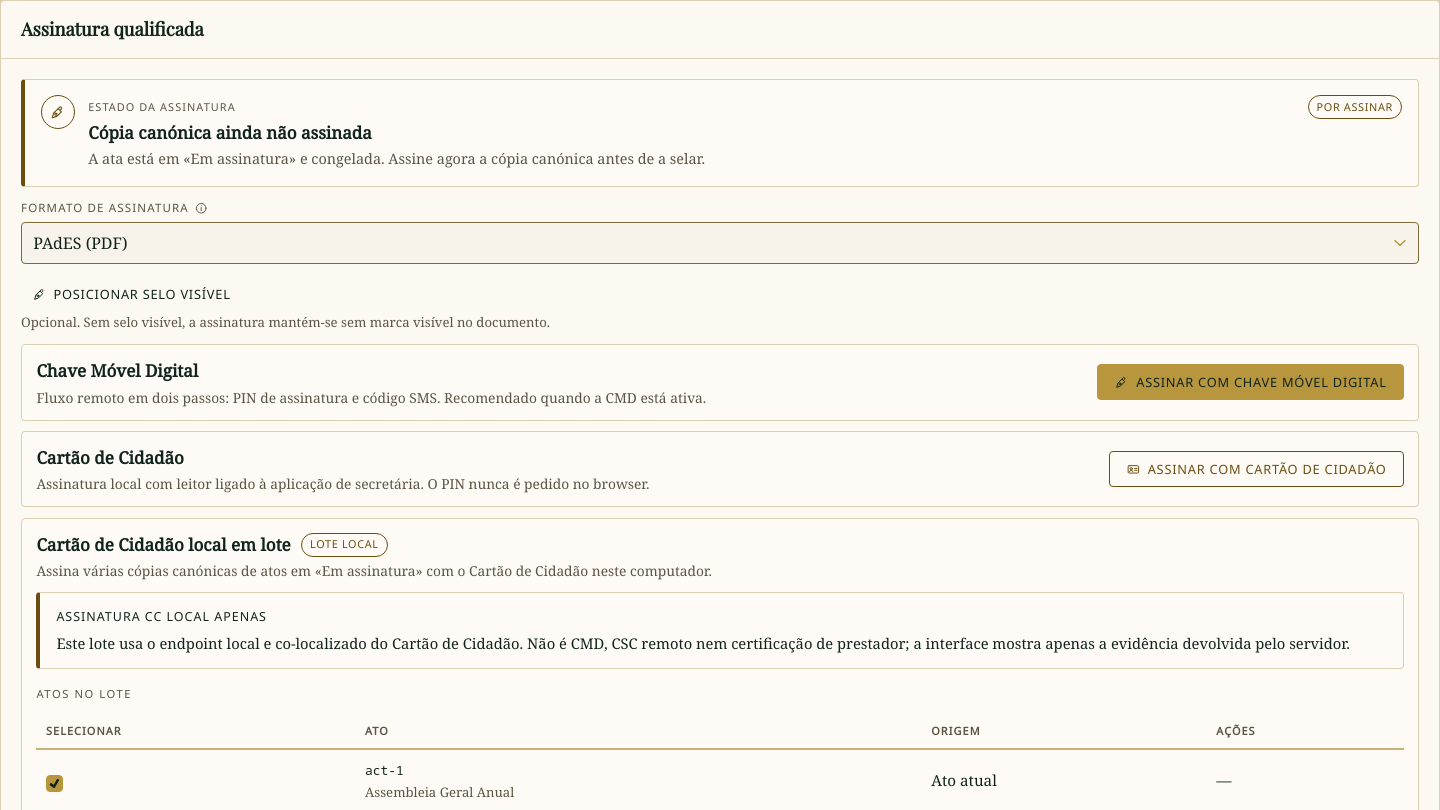
Test: the saved CMD mobile number › never overwrites a number the operator has started typing
Click the button "Assinar com Chave Móvel Digital" at (1250, 382), box [1097,364,1404,400]
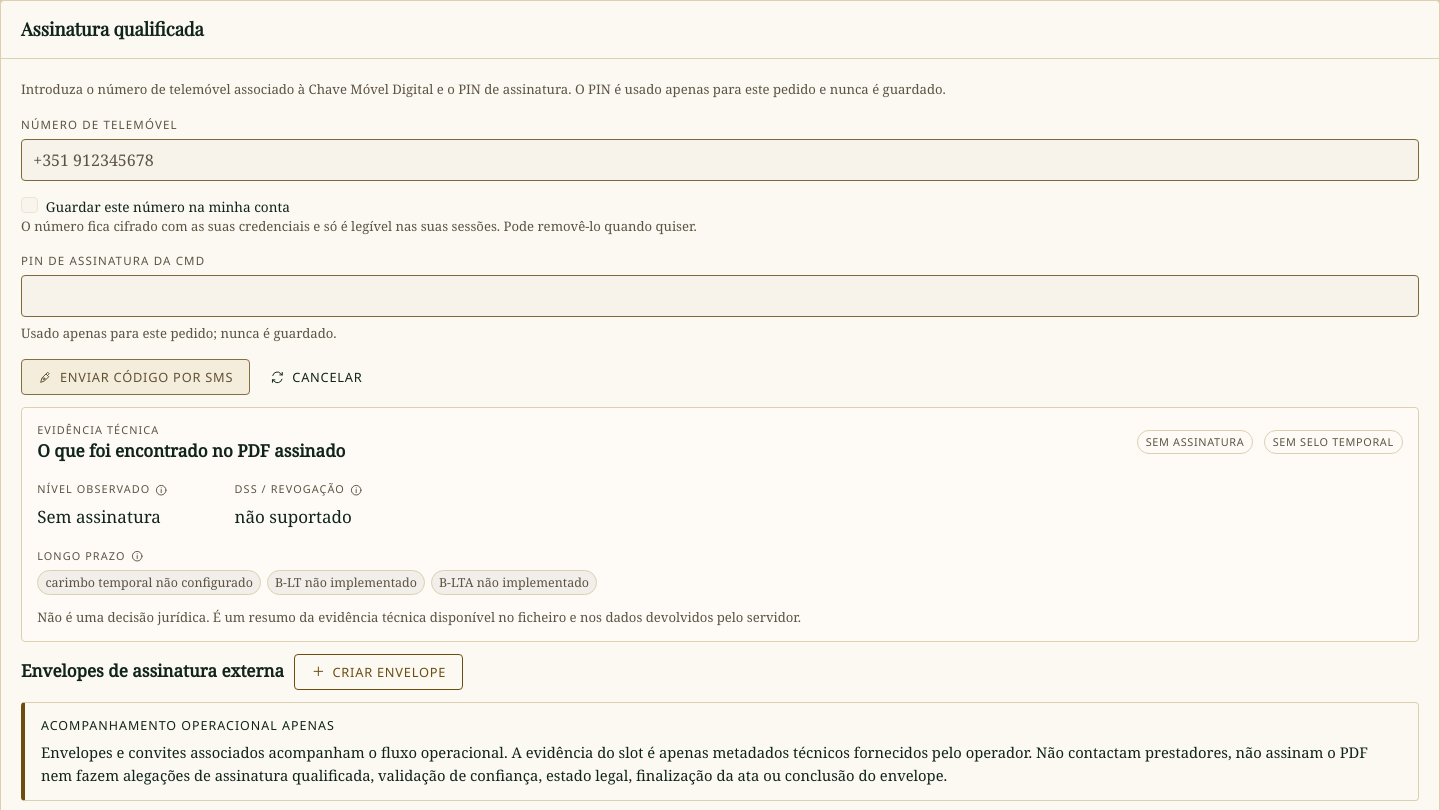
Type "+351 900 000 001" into the field labelled "Número de telemóvel" at (720, 160), box [21,139,1419,181]
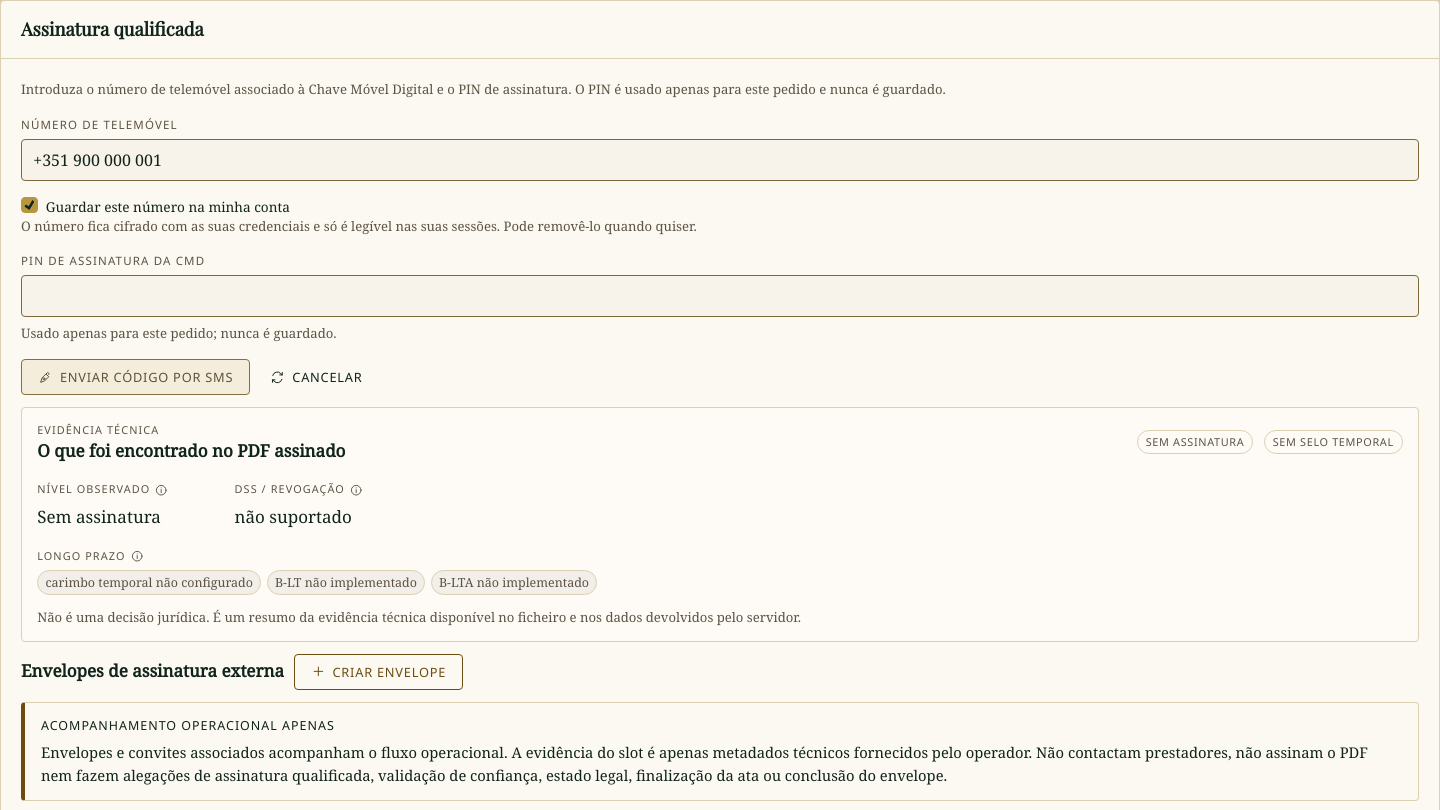
Expected: the checkbox labelled "Guardar este número na minha conta" is checked, [21,197,38,214]
